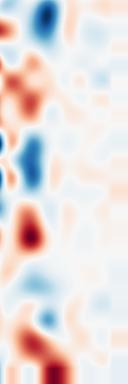filament: (13, 309, 79, 383), (8, 198, 60, 258)
